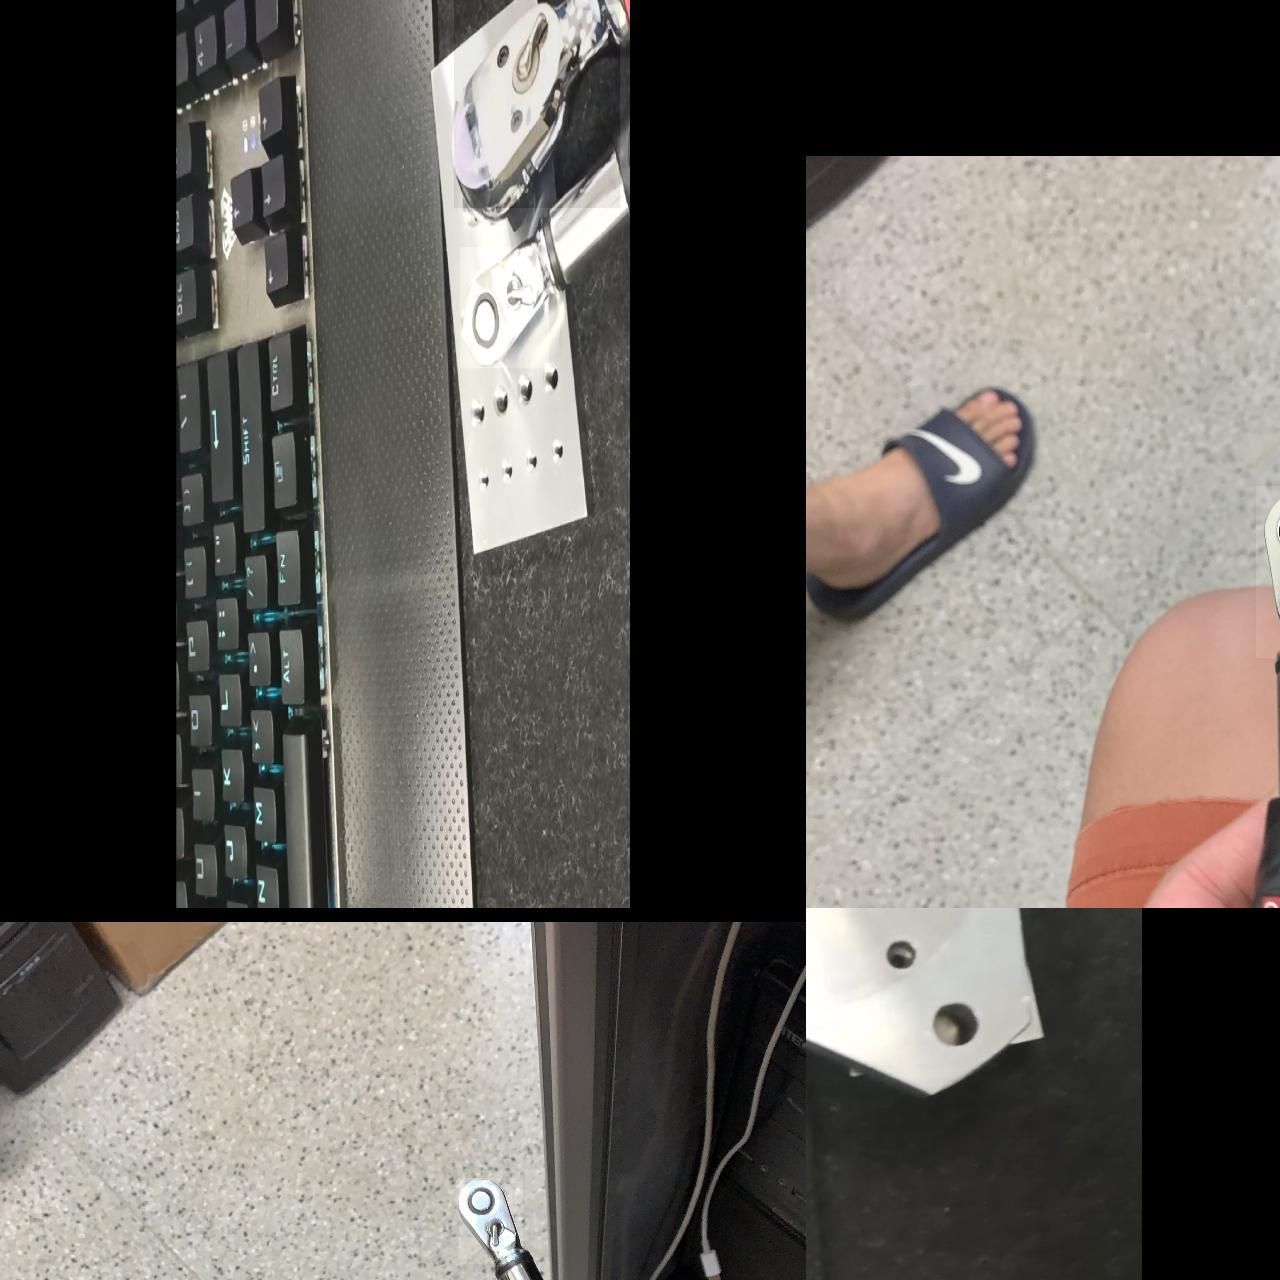Tool: (454, 0, 620, 207), (459, 246, 550, 367), (459, 1177, 523, 1262), (1257, 485, 1280, 658)
